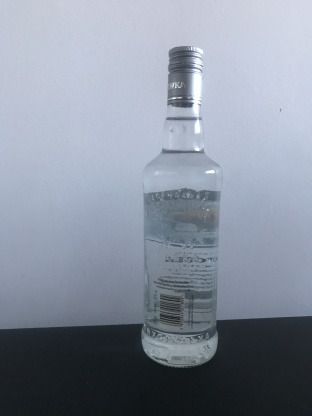nakretka: (165, 44, 204, 109)
